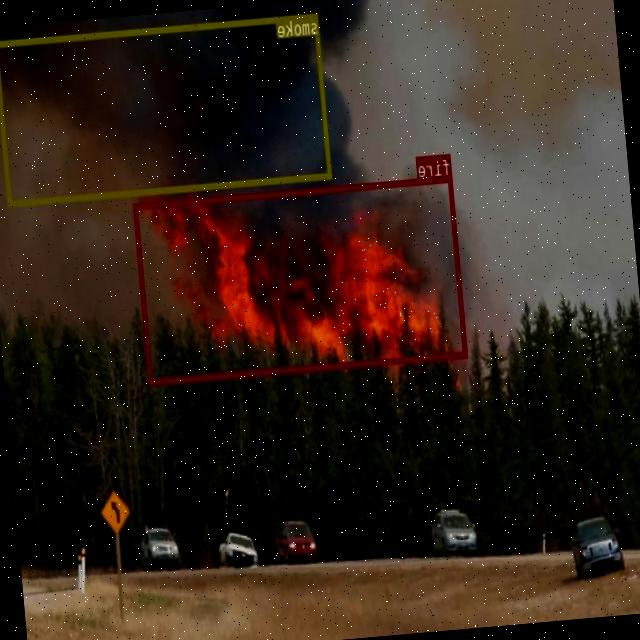fire: (134, 174, 468, 383)
smoke: (0, 12, 332, 206)
